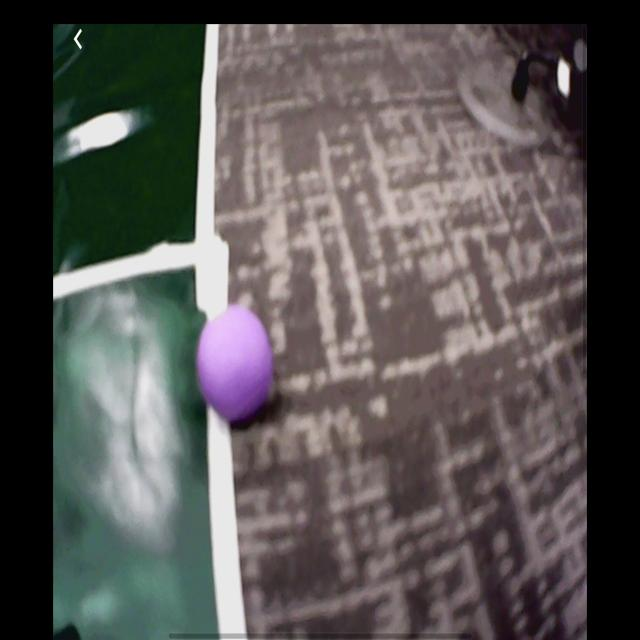ball: (196, 303, 276, 425)
